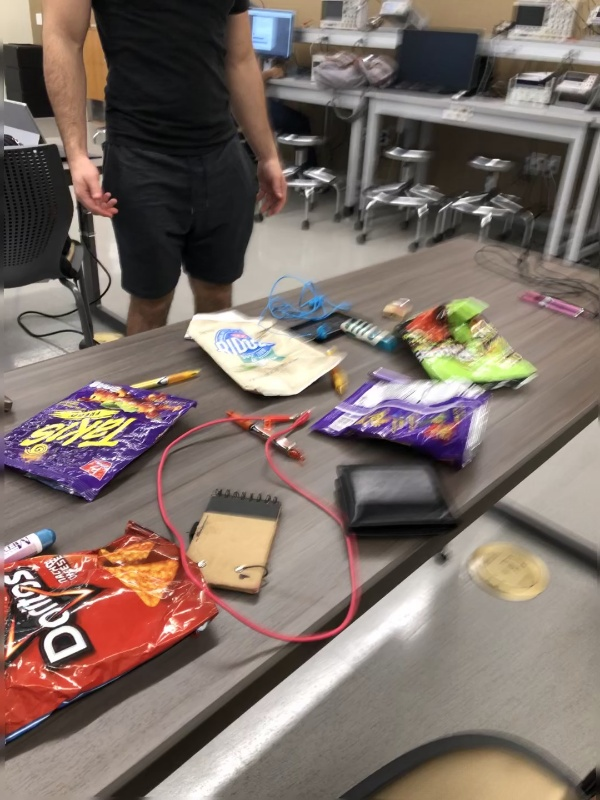bag: (1, 516, 229, 749), (1, 373, 205, 506), (303, 372, 491, 472), (399, 294, 543, 401), (181, 311, 348, 399)
